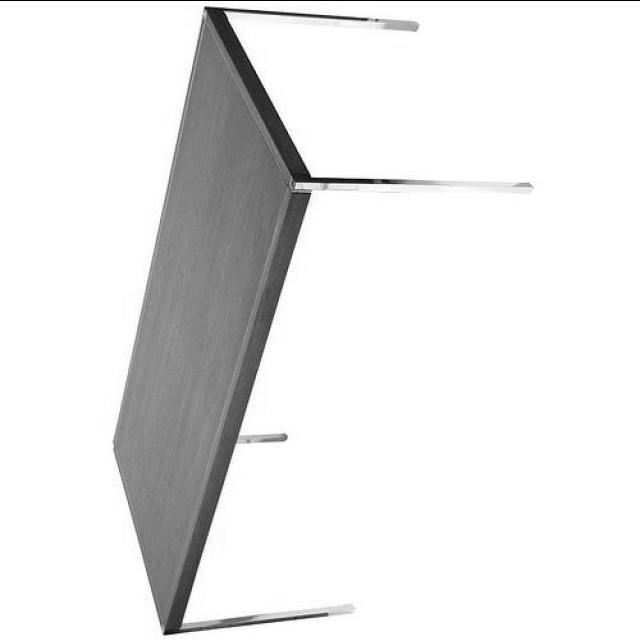table: (108, 4, 532, 636)
